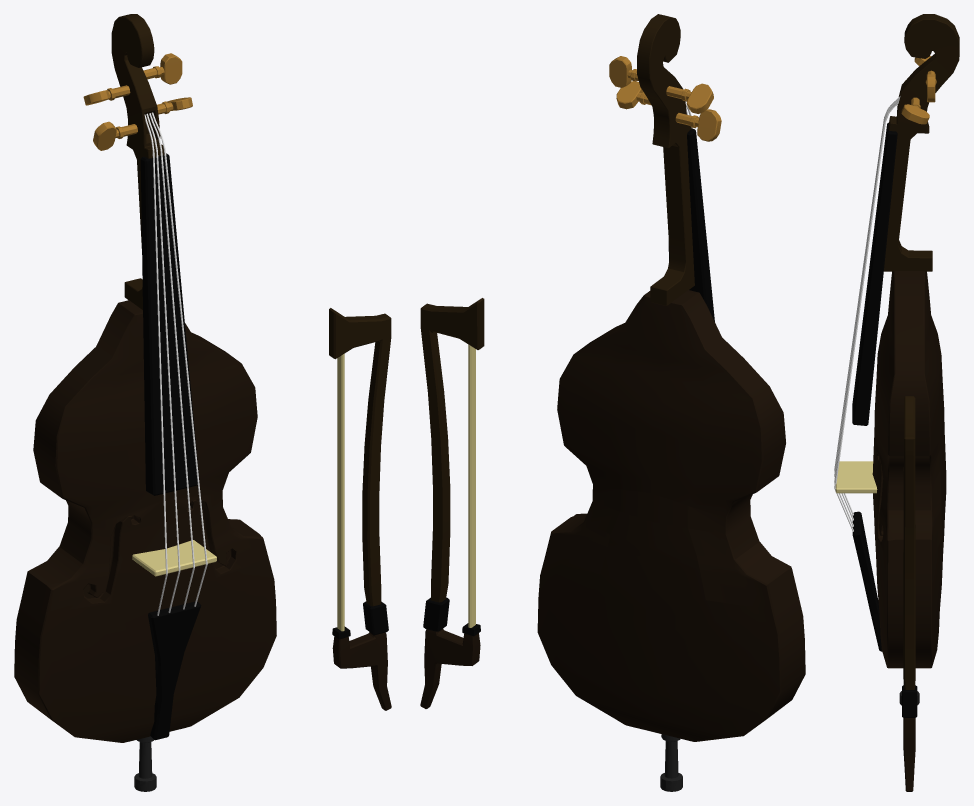
The model's file is double bass.fbx.
3 renders of one model, left to right at view 1: azimuth 30°, elevation 25°; view 2: azimuth 150°, elevation 25°; view 3: azimuth 270°, elevation 25°, orthographic. The views are drawn at different scales.
Parts seen in each view (by area): view 1: c_md:pCube11; view 2: c_md:pCube11; view 3: c_md:pCube11.
Boxes of the visible parts, bbox=[...] form: c_md:pCube11: bbox=[14, 14, 391, 791]; c_md:pCube11: bbox=[420, 14, 805, 791]; c_md:pCube11: bbox=[834, 14, 959, 791].
Size of the model in its own units: 1.6 by 3.19 by 0.5293.
